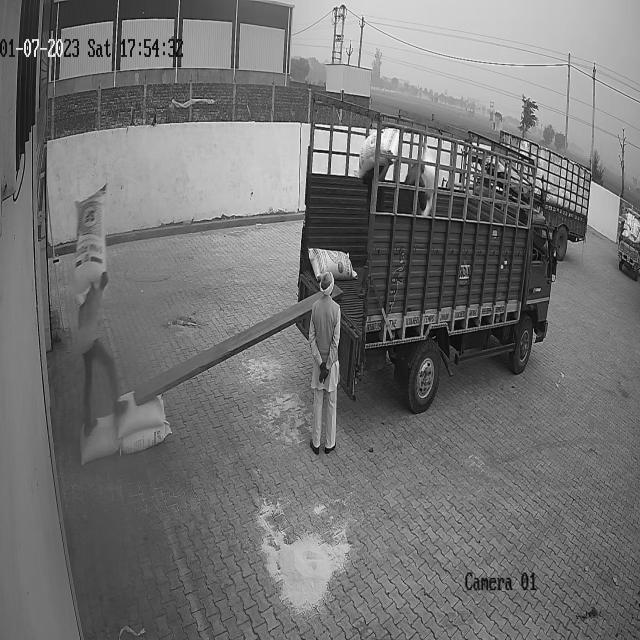sack: (74, 183, 106, 293), (113, 392, 164, 436), (78, 413, 116, 463), (308, 246, 357, 282), (120, 424, 170, 453)
